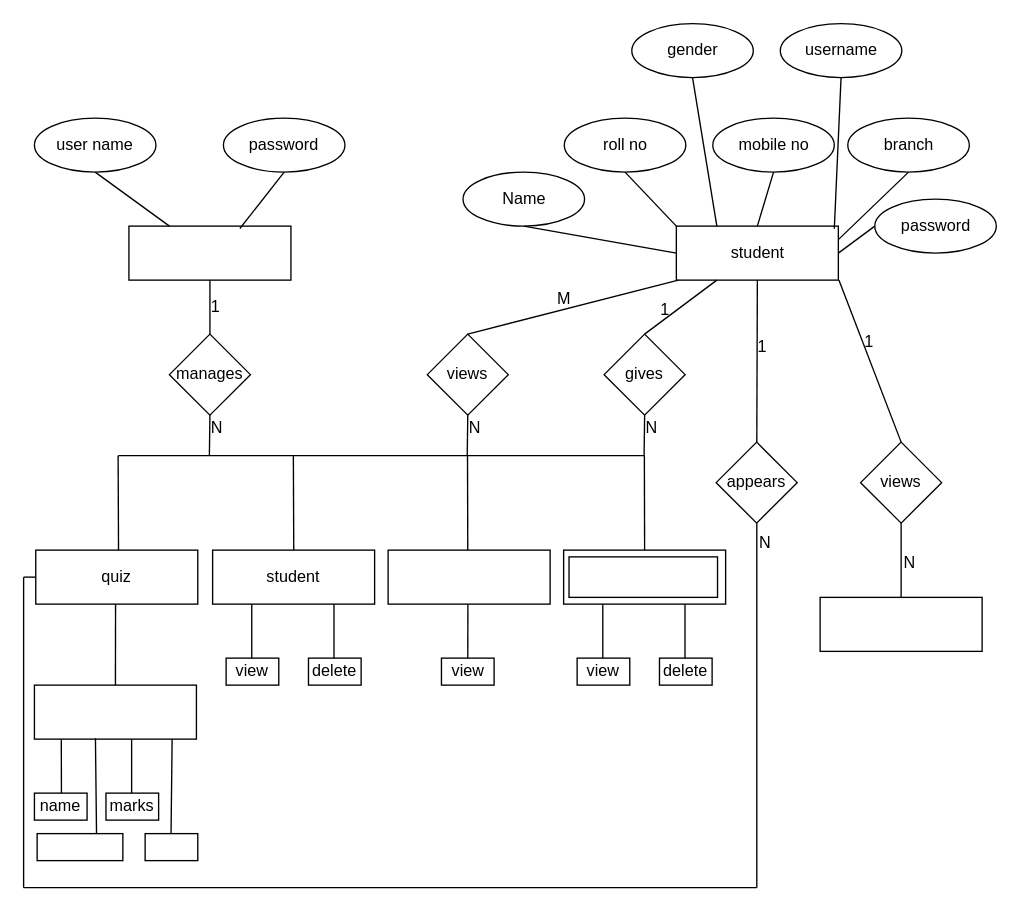
Some shapes in this 1021 by 913 pixel diagram are drawn without their labels. The shapes that lost their labels are listed below. From the top down, each one's centre as x and y in pixels, then its label:
At point 209,252: "admin".
At point 468,576: "leaderboard".
At point 643,576: "feedbacck".
At point 900,623: "history".
At point 114,711: "ADD QUIZ".
At point 79,846: "no.of.questions".
At point 171,846: "time".
